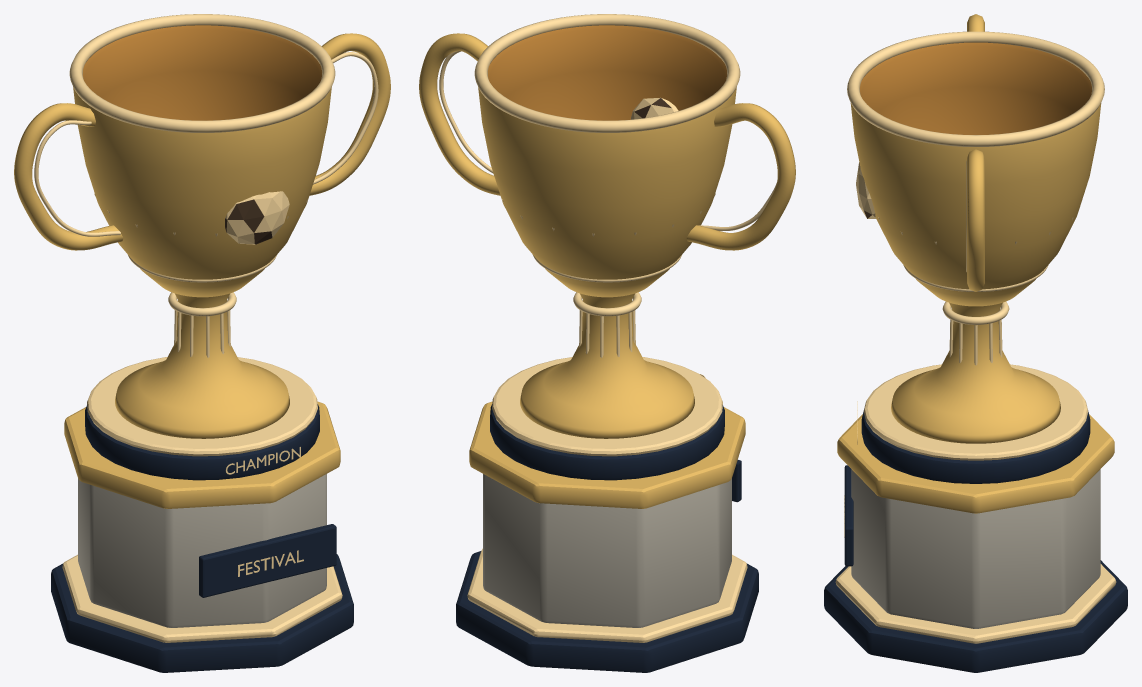
The model's file is golden-trophy-Cpe5GeEf.glb.
3 renders of one model, left to right at view 1: azimuth 30°, elevation 25°; view 2: azimuth 150°, elevation 25°; view 3: azimuth 270°, elevation 25°, orthographic. The views are drawn at different scales.
Parts seen in each view (by area): view 1: Trophy Brushed champagne gold, Trophy Polished rolled gold, Trophy Warm limestone pedestal, Trophy Midnight enamel plinth, Trophy Warm cup interior, Football medallion; view 2: Trophy Brushed champagne gold, Trophy Warm limestone pedestal, Trophy Polished rolled gold, Trophy Warm cup interior, Trophy Midnight enamel plinth, Football medallion; view 3: Trophy Brushed champagne gold, Trophy Warm limestone pedestal, Trophy Polished rolled gold, Trophy Warm cup interior, Trophy Midnight enamel plinth, Football medallion.
Part boxes in pixels (bbox=[...]): Trophy Brushed champagne gold: bbox=[14, 33, 390, 508]; Trophy Polished rolled gold: bbox=[34, 14, 378, 642]; Trophy Warm limestone pedestal: bbox=[78, 474, 326, 627]; Trophy Midnight enamel plinth: bbox=[51, 404, 353, 672]; Trophy Warm cup interior: bbox=[83, 25, 321, 120]; Football medallion: bbox=[225, 191, 289, 244]; Trophy Brushed champagne gold: bbox=[419, 33, 795, 508]; Trophy Warm limestone pedestal: bbox=[483, 474, 731, 627]; Trophy Polished rolled gold: bbox=[439, 14, 776, 642]; Trophy Warm cup interior: bbox=[488, 25, 726, 120]; Trophy Midnight enamel plinth: bbox=[456, 404, 758, 672]; Football medallion: bbox=[631, 97, 678, 119]; Trophy Brushed champagne gold: bbox=[837, 14, 1114, 513]; Trophy Warm limestone pedestal: bbox=[851, 469, 1100, 628]; Trophy Polished rolled gold: bbox=[835, 31, 1116, 643]; Trophy Warm cup interior: bbox=[860, 42, 1091, 134]; Trophy Midnight enamel plinth: bbox=[824, 412, 1127, 672]; Football medallion: bbox=[856, 162, 875, 218].
Size of the model in its own units: 2.17 by 3 by 1.57.
